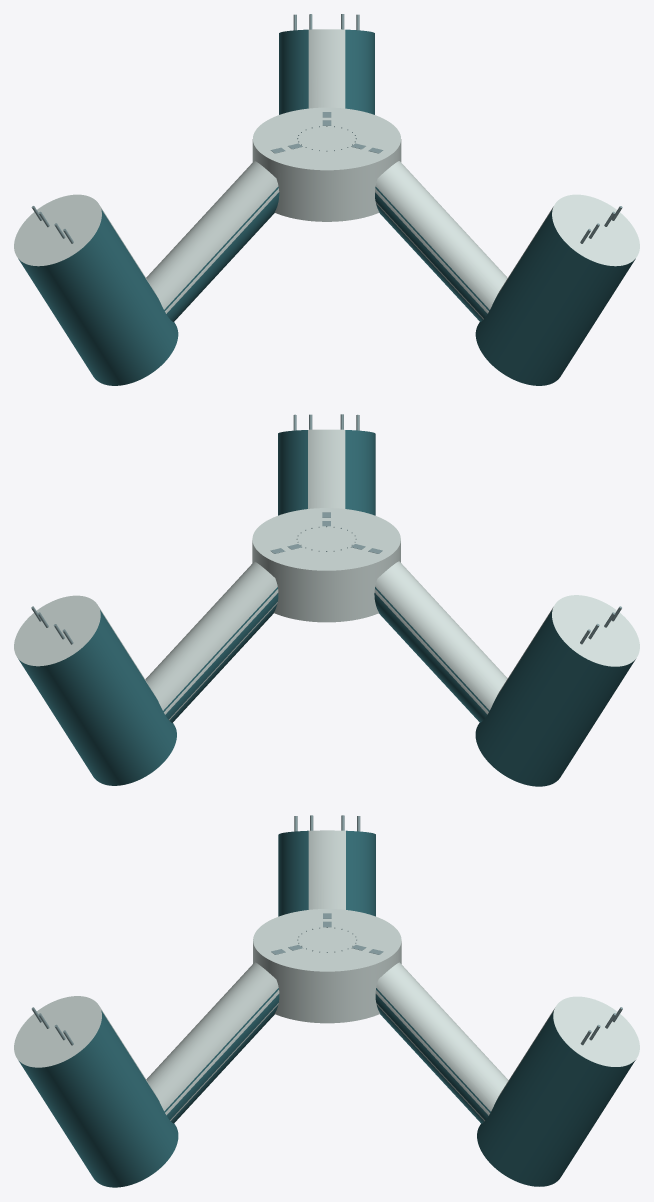
Rendered from connected-native-hull.glb.
The picture shows the model from 3 angles, top to bottom: view 1: azimuth 30°, elevation 25°; view 2: azimuth 150°, elevation 25°; view 3: azimuth 270°, elevation 25°; orthographic projection.
Visible parts, largest first — view 1: Native connected fabricated hull / source axes unchanged; view 2: Native connected fabricated hull / source axes unchanged; view 3: Native connected fabricated hull / source axes unchanged.
Boxes of the visible parts, left/top/right/bottom form: Native connected fabricated hull / source axes unchanged: left=14, top=29, right=639, bottom=385; Native connected fabricated hull / source axes unchanged: left=14, top=429, right=639, bottom=786; Native connected fabricated hull / source axes unchanged: left=14, top=830, right=639, bottom=1187.
Bounding box in the file's own units: 106 × 39.48 × 120.
